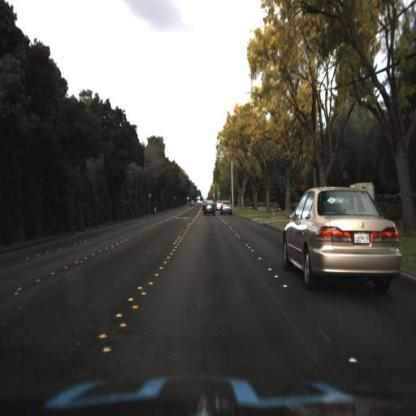car: (278, 180, 405, 305), (282, 183, 403, 299), (200, 194, 220, 218), (220, 193, 237, 219), (215, 198, 224, 214)
